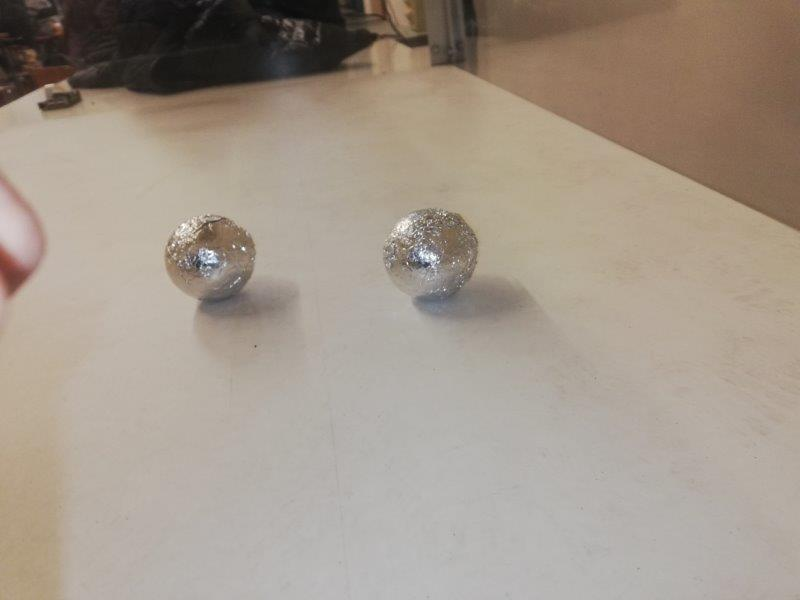bianca: (383, 209, 482, 299), (163, 213, 259, 302)
